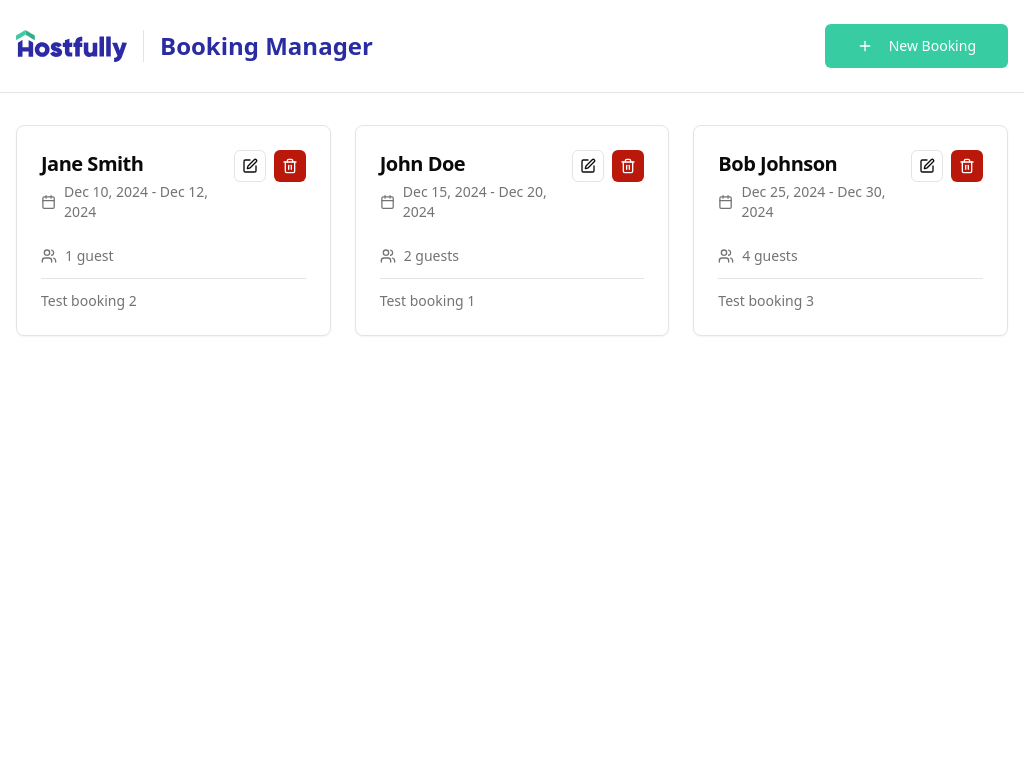
Root Component › Create Booking Flow › should open new booking dialog when clicking header "New Booking" button
Click the button "New Booking": (916, 46) [825,24,1008,68]
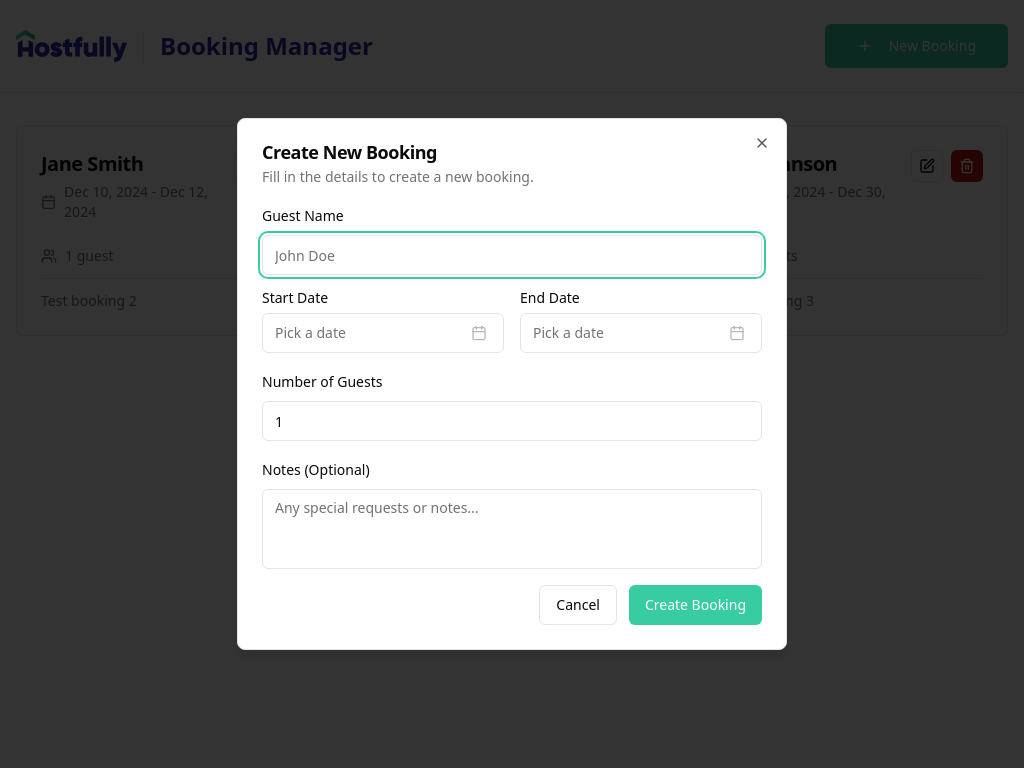
Now the dialog "New Booking" is shown, box [237,118,787,650]
